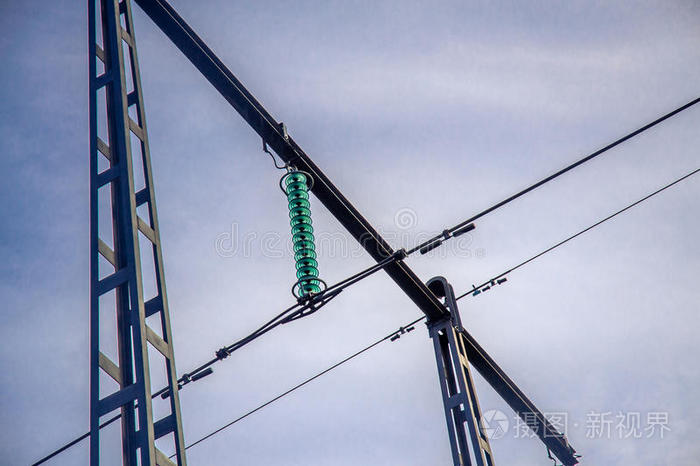insulator: (282, 169, 321, 293)
